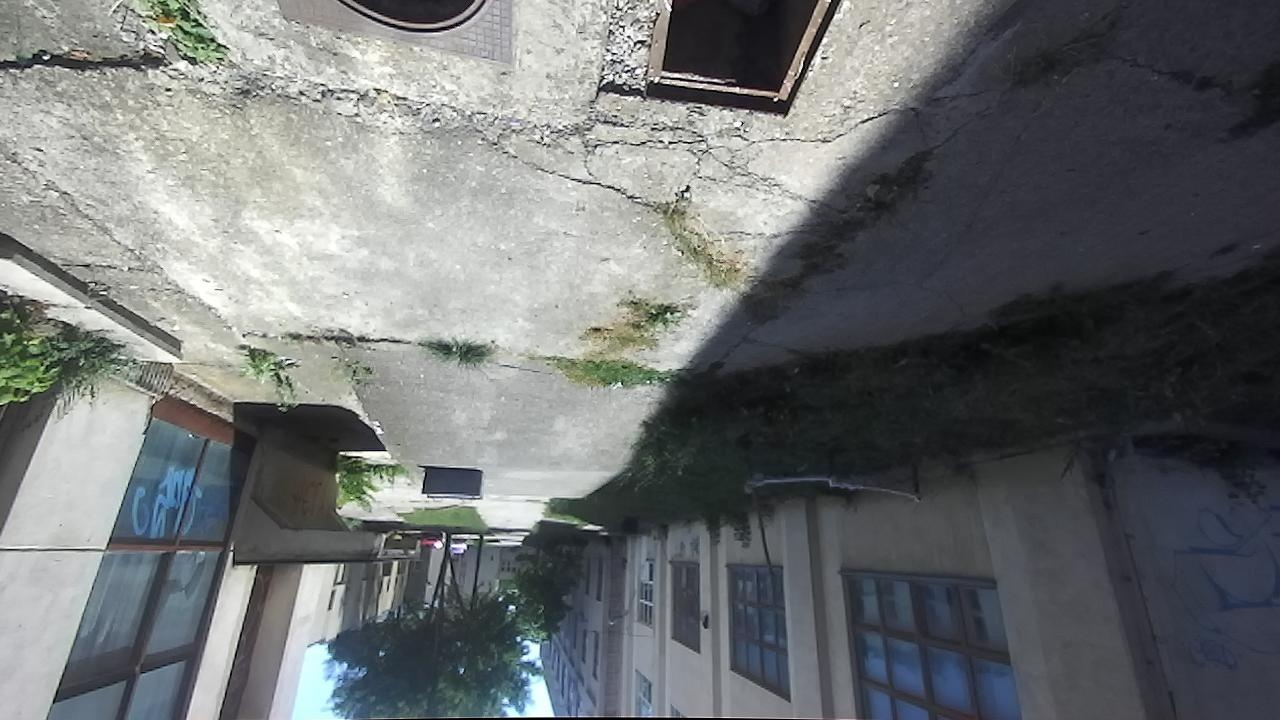drain: (639, 0, 846, 120), (325, 0, 506, 36)
